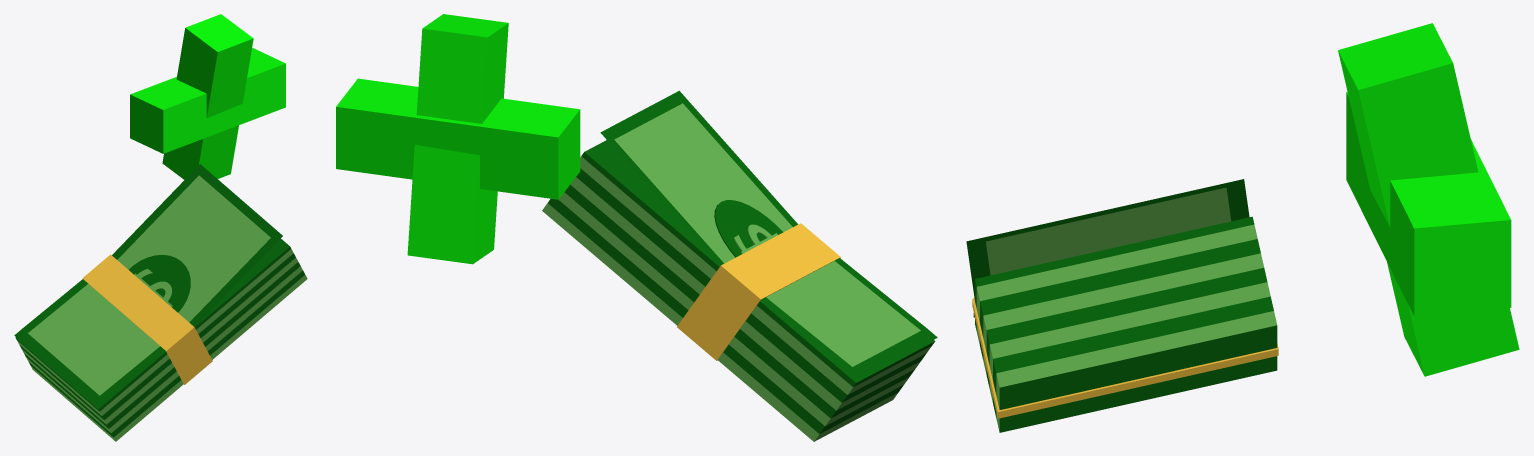
File: cash (1).fbx
The picture shows the model from 3 angles, left to right: view 1: azimuth 30°, elevation 25°; view 2: azimuth 150°, elevation 25°; view 3: azimuth 270°, elevation 25°; orthographic projection. The views are drawn at different scales.
Visible parts, largest first — view 1: cash; view 2: cash; view 3: cash.
Part boxes in pixels (x1,y1,x2,y2): cash: (14,14,307,441); cash: (336,14,937,441); cash: (966,23,1519,432).
Size of the model in its own units: 263 by 234 by 201.
